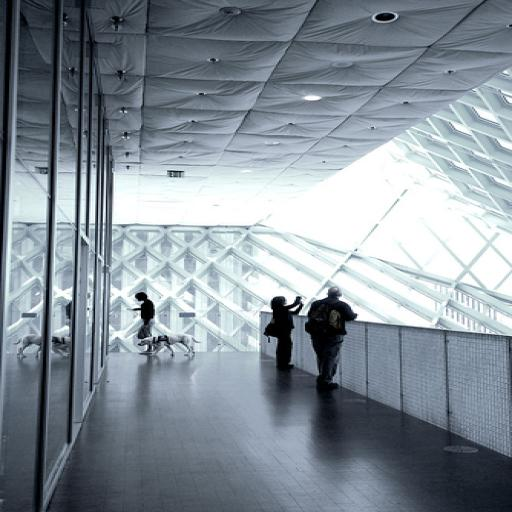animal: (136, 332, 202, 356)
person: (304, 279, 358, 390), (262, 290, 304, 369), (127, 287, 157, 363)
